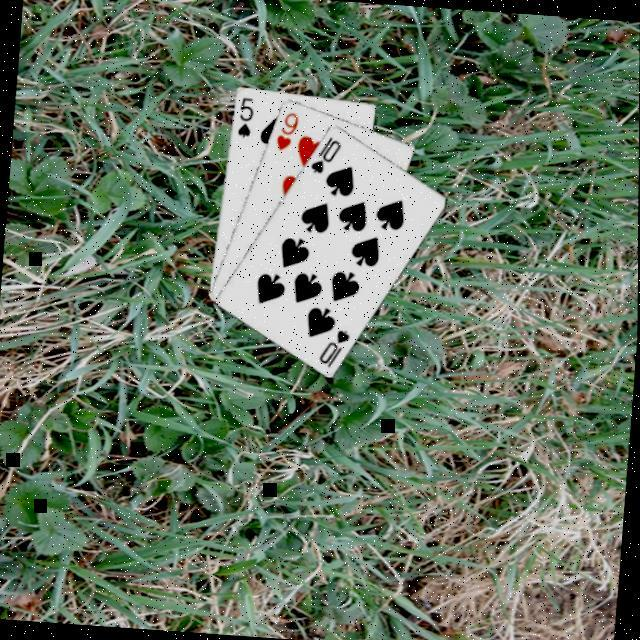10S: (307, 130, 345, 176), (315, 323, 353, 369)
5S: (234, 92, 258, 139)
9H: (273, 107, 302, 153)
